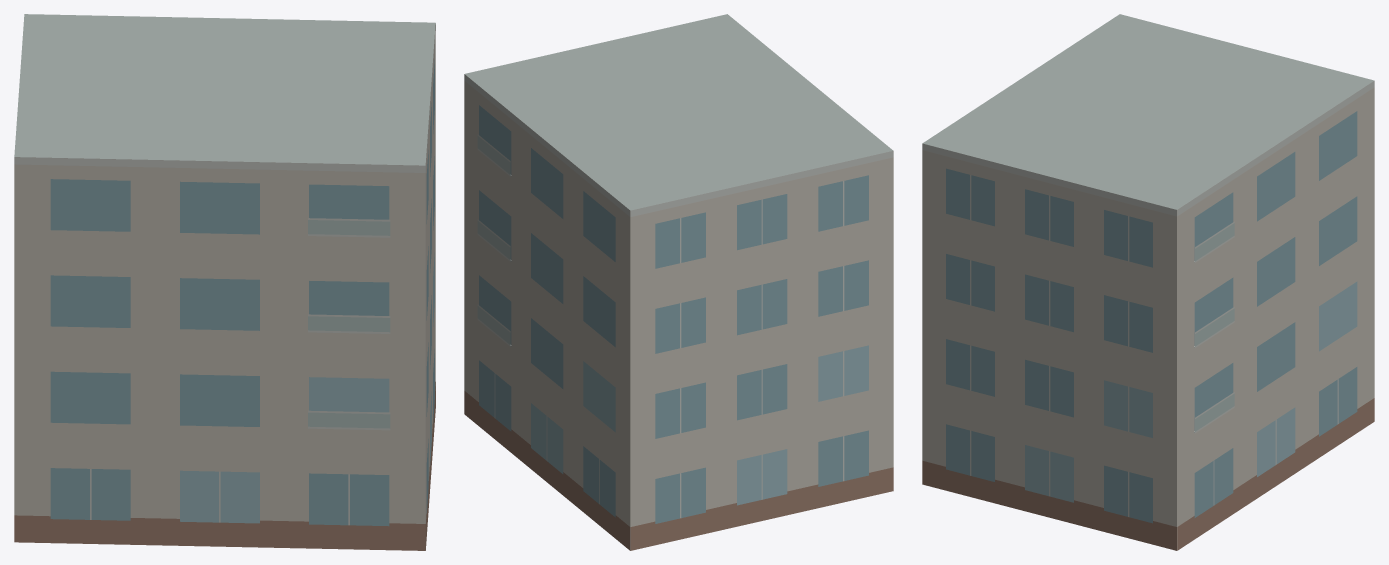
File: survey-upis-32774929.glb
3 renders of one model, left to right at view 1: azimuth 30°, elevation 25°; view 2: azimuth 150°, elevation 25°; view 3: azimuth 270°, elevation 25°, orthographic. The views are drawn at different scales.
Visible parts, largest first — view 1: survey-upis-32774929.tmp; view 2: survey-upis-32774929.tmp; view 3: survey-upis-32774929.tmp.
Part boxes in pixels (x1=…): survey-upis-32774929.tmp: x1=14, y1=14, x2=435, y2=550; survey-upis-32774929.tmp: x1=464, y1=14, x2=893, y2=550; survey-upis-32774929.tmp: x1=922, y1=14, x2=1374, y2=550.
Size of the model in its own units: 15.54 by 12.6 by 15.16.
